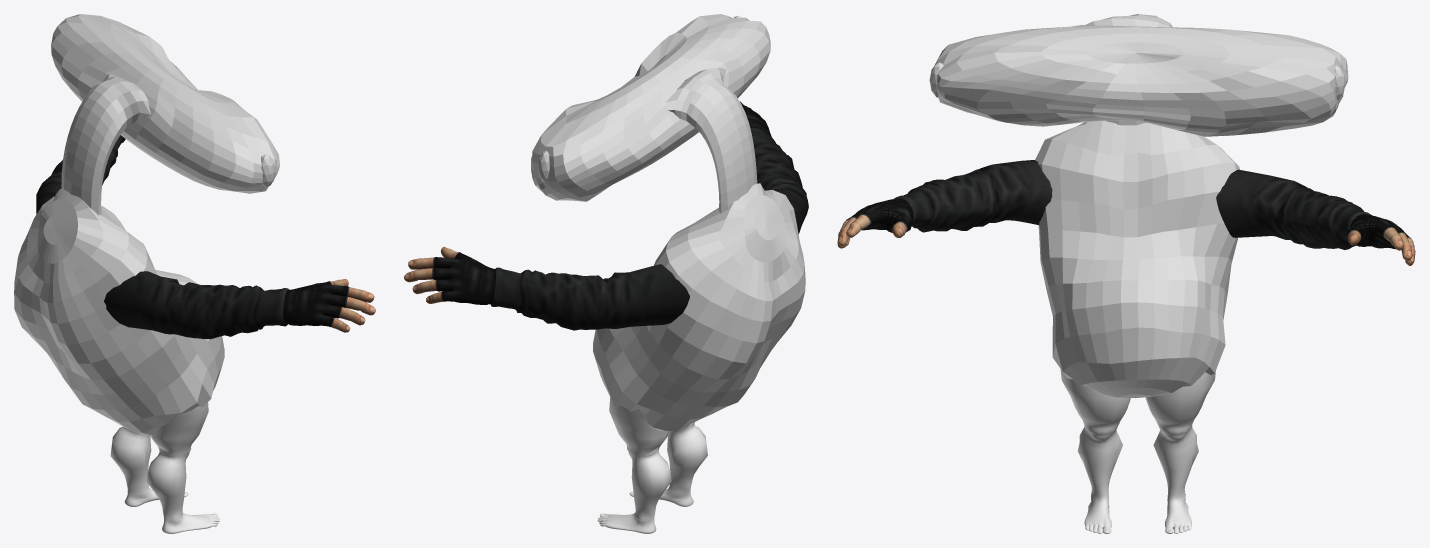
The model's file is hammerman.fbx.
3 views of the same model, side by side, from view 1: azimuth 30°, elevation 25°; view 2: azimuth 150°, elevation 25°; view 3: azimuth 270°, elevation 25° (orthographic). The views are drawn at different scales.
Visible parts, largest first — view 1: body, head, arm left, leg right, leg left, arm right; view 2: body, head, arm right, leg left, arm left, leg right; view 3: body, head, arm right, arm left, leg left, leg right.
Boxes of the visible parts, bbox=[...] form: body: bbox=[14, 188, 224, 435]; head: bbox=[51, 14, 279, 215]; arm left: bbox=[104, 271, 375, 339]; leg right: bbox=[146, 402, 219, 533]; leg left: bbox=[110, 426, 188, 506]; arm right: bbox=[36, 135, 125, 214]; body: bbox=[593, 183, 805, 431]; head: bbox=[531, 14, 770, 213]; arm right: bbox=[404, 246, 689, 330]; leg left: bbox=[597, 396, 671, 533]; arm left: bbox=[740, 101, 808, 233]; leg right: bbox=[629, 422, 707, 506]; body: bbox=[1035, 120, 1239, 398]; head: bbox=[934, 14, 1348, 136]; arm right: bbox=[1216, 169, 1415, 265]; arm left: bbox=[837, 160, 1052, 248]; leg left: bbox=[1145, 371, 1215, 533]; leg right: bbox=[1060, 369, 1130, 533].
Bounding box in the file's own units: 318 × 541 × 588.
